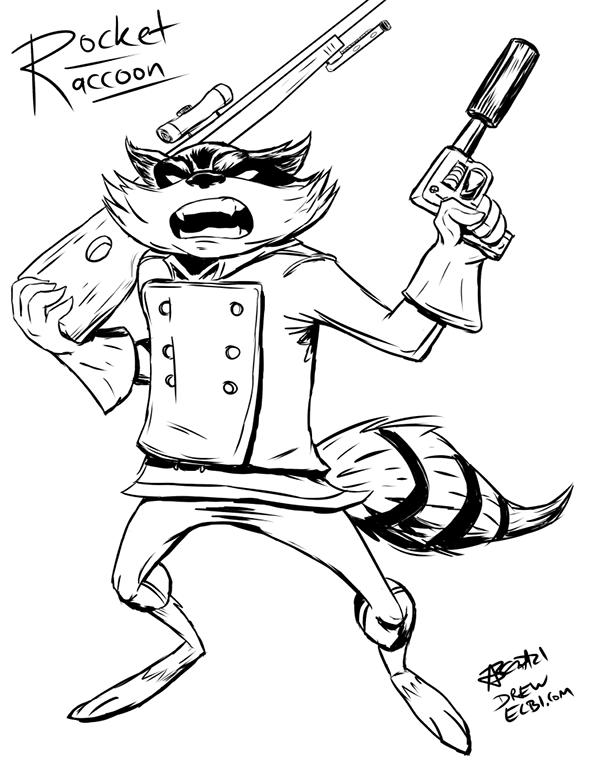cat: (9, 121, 485, 768)
